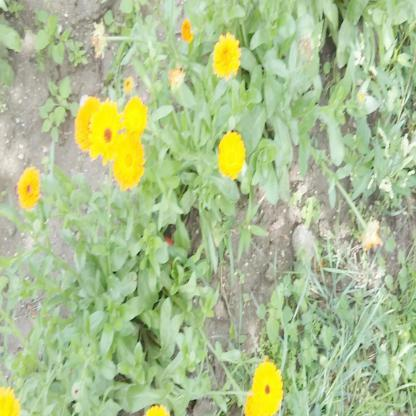marigold: (90, 99, 119, 161), (252, 364, 283, 413), (113, 135, 140, 187), (74, 96, 98, 154), (212, 32, 241, 78), (219, 132, 244, 178), (18, 167, 39, 210), (124, 98, 147, 131)
